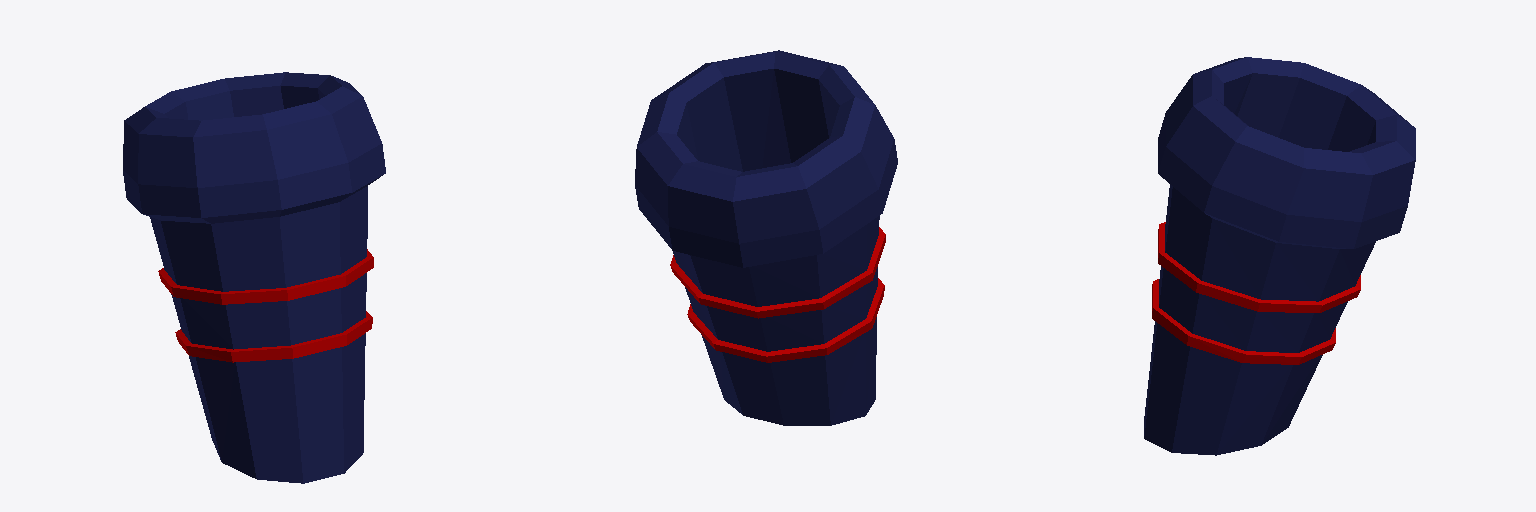
The model's file is BoatChimney.obj.
The picture shows the model from 3 angles: view 1: azimuth 30°, elevation 25°; view 2: azimuth 150°, elevation 25°; view 3: azimuth 270°, elevation 25°; orthographic projection.
Visible parts, largest first — view 1: BoatChimney; view 2: BoatChimney; view 3: BoatChimney.
Boxes of the visible parts, box(x1,y1,x2,y2) form: BoatChimney: box(123, 72, 385, 483); BoatChimney: box(635, 50, 897, 425); BoatChimney: box(1144, 57, 1415, 455).
Bounding box in the file's own units: 1.08 × 1.57 × 1.12.